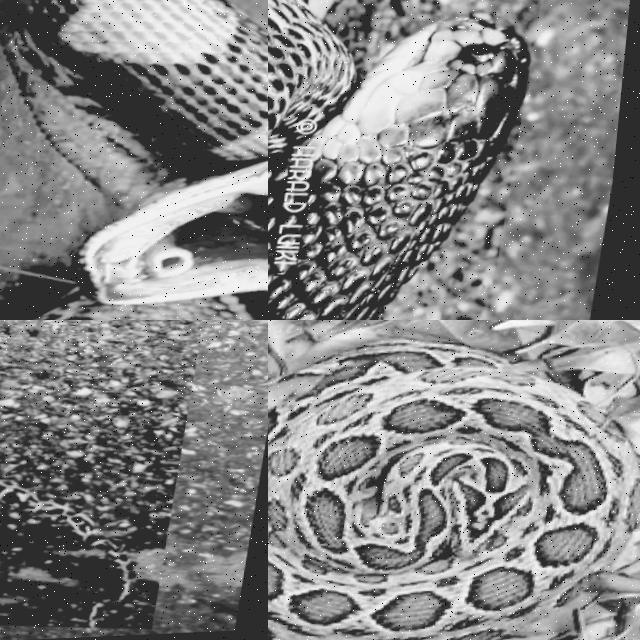Daboia siamensis: (268, 341, 639, 639)
Malayopython reticulatus: (0, 0, 267, 303)
Naja kaouthia: (268, 0, 528, 319)
Python bivittatus: (0, 480, 130, 600)
